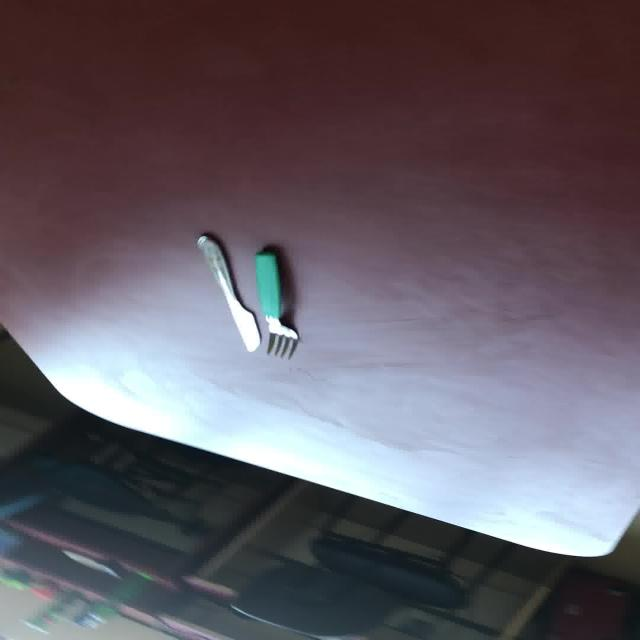fork: (253, 244, 299, 359)
knife fork: (194, 232, 261, 352)
